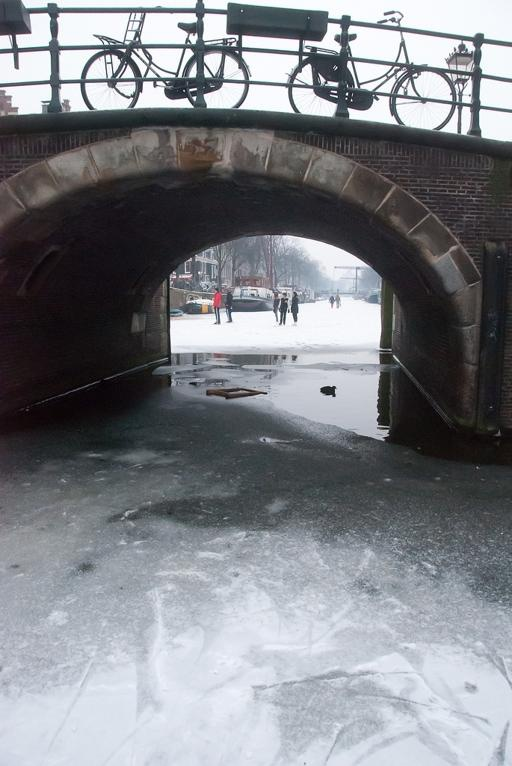non-vehicle: (280, 4, 459, 131), (77, 7, 255, 108)
